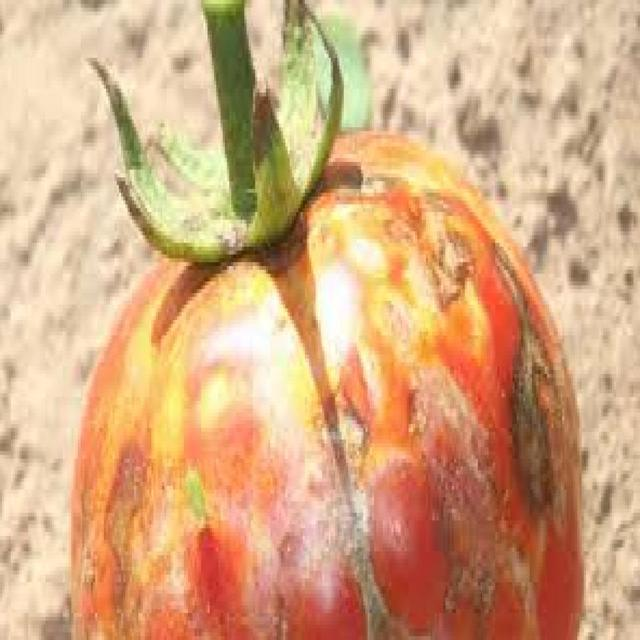Spotted wilt Virus Fruit: (194, 288, 582, 565)
